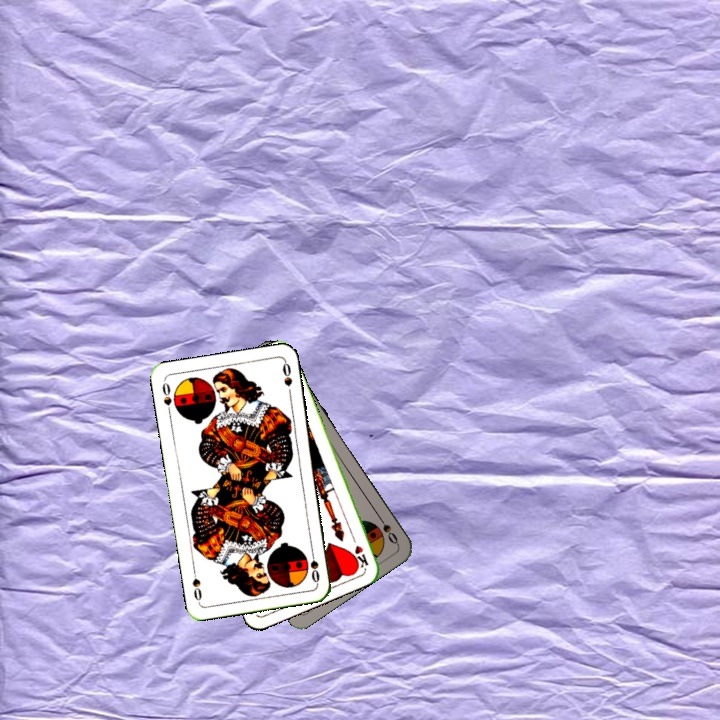HK: (347, 530, 371, 570)
SO: (373, 511, 401, 547), (158, 377, 174, 418), (306, 545, 322, 585)
